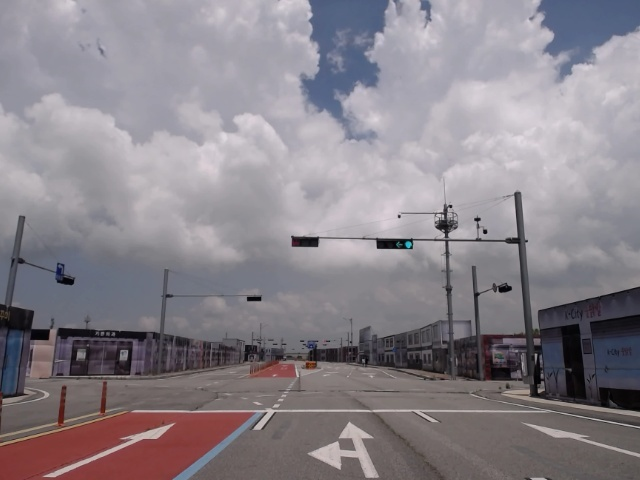all_green_4: (377, 238, 413, 248)
